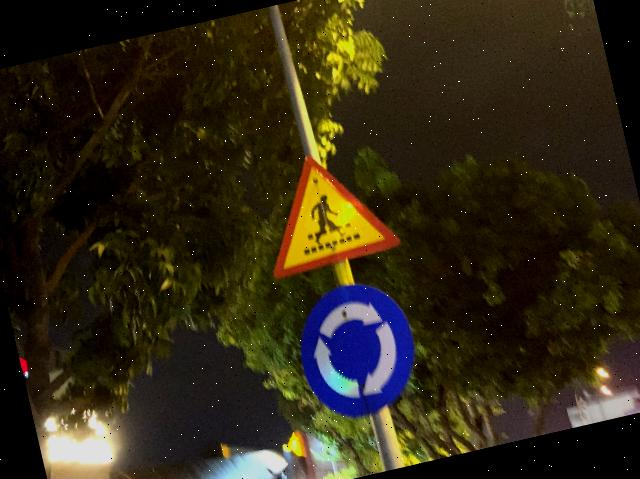duong-nguoi-di-bo-cat-ngang: (248, 138, 402, 280)
noi-giao-nhau-chay-theo-vong-xuyen: (286, 272, 429, 428)
